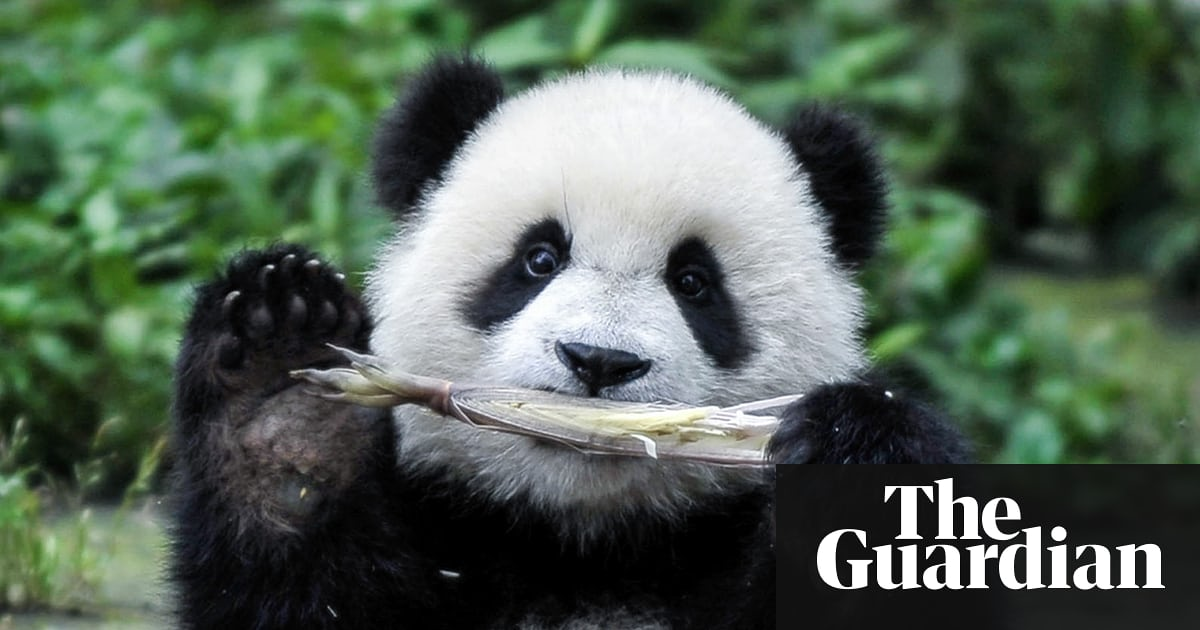panda: (167, 40, 1000, 630)
